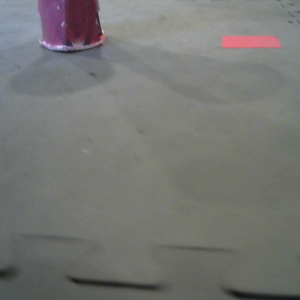right: (28, 1, 111, 58)
